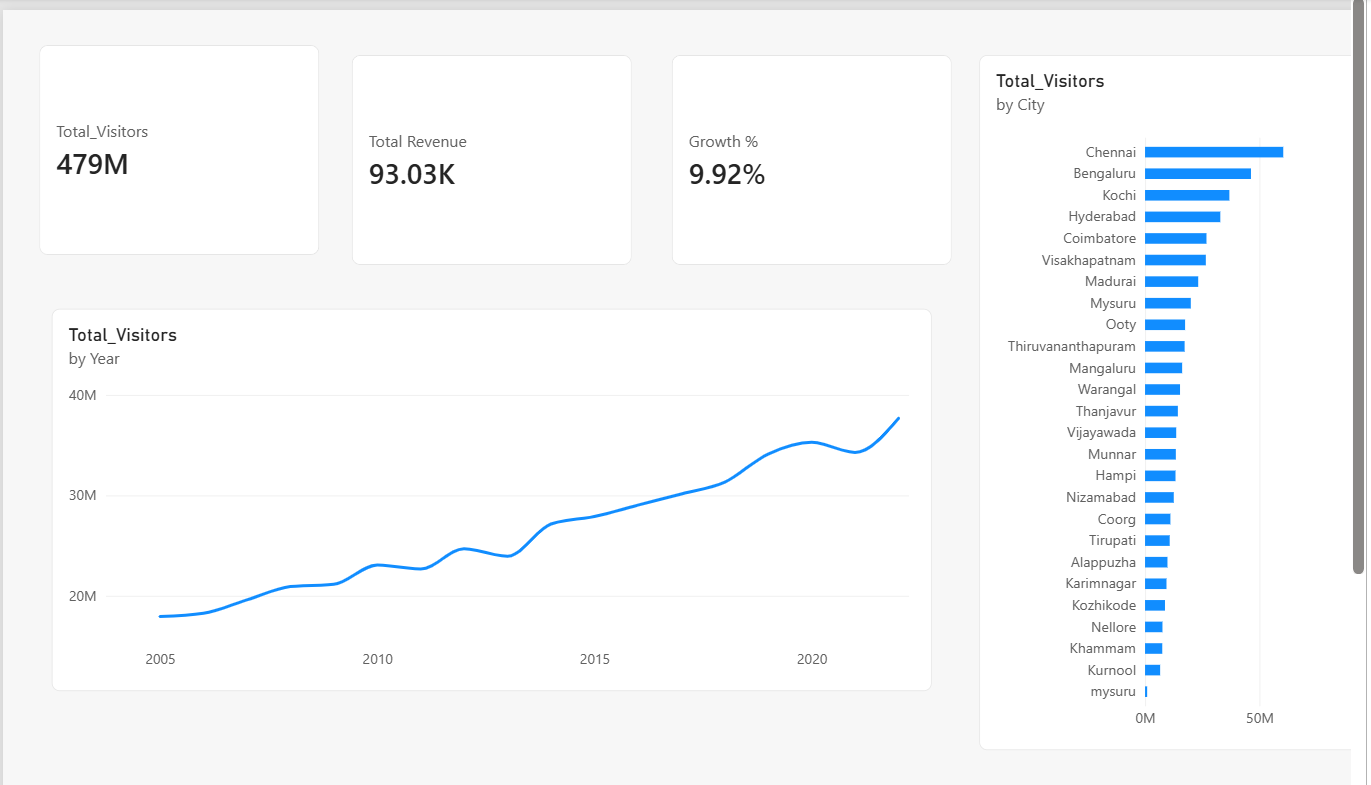

This screenshot's page, from the dashboard's own definition file:
{"tool":"powerbi","page":{"name":"Executive Overview","canvas":[1920,1080],"ordinal":0},"visuals":[{"type":"cardVisual","fields":{"Data":["South_Indian_Tourism_Analytics_Dataset_cleaned.Total_Visitors"]},"box":[36.2,35,280,210],"z":0},{"type":"cardVisual","fields":{"Data":["South_Indian_Tourism_Analytics_Dataset_cleaned.Total Revenue"]},"box":[348.8,45,280,210],"z":1000},{"type":"lineChart","fields":{"Category":["South_Indian_Tourism_Analytics_Dataset_cleaned.Year"],"Y":["South_Indian_Tourism_Analytics_Dataset_cleaned.Total_Visitors"]},"box":[48.8,298.8,880,382.5],"z":2000},{"type":"barChart","fields":{"Category":["South_Indian_Tourism_Analytics_Dataset_cleaned.City"],"Y":["South_Indian_Tourism_Analytics_Dataset_cleaned.Total_Visitors"]},"box":[976.2,45,380,695],"z":3000},{"type":"cardVisual","fields":{"Data":["South_Indian_Tourism_Analytics_Dataset_cleaned.Growth %"]},"box":[668.8,45,280,210],"z":4000}]}

Visuals, with their boxes in screenshot pixels (x1, y1, x2, y2), scaled from the page's 1920x1080 canvas onto the 1371x785 screenshot:
cardVisual - South_Indian_Tourism_Analytics_Dataset_cleaned.Total_Visitors: (26, 25, 226, 178)
cardVisual - South_Indian_Tourism_Analytics_Dataset_cleaned.Total Revenue: (249, 33, 449, 185)
lineChart - South_Indian_Tourism_Analytics_Dataset_cleaned.Year x South_Indian_Tourism_Analytics_Dataset_cleaned.Total_Visitors: (35, 217, 663, 495)
barChart - South_Indian_Tourism_Analytics_Dataset_cleaned.City x South_Indian_Tourism_Analytics_Dataset_cleaned.Total_Visitors: (697, 33, 968, 538)
cardVisual - South_Indian_Tourism_Analytics_Dataset_cleaned.Growth %: (478, 33, 678, 185)
